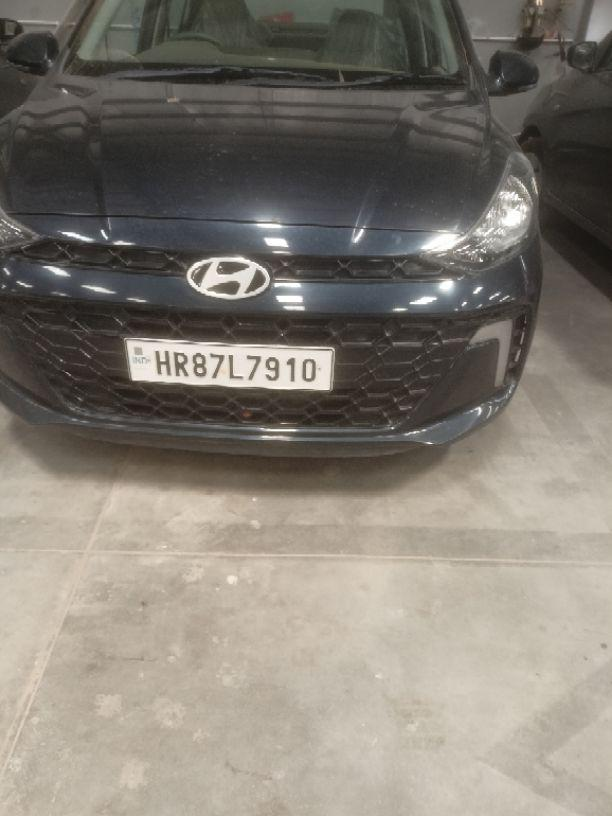license_plate: (122, 336, 335, 392)
